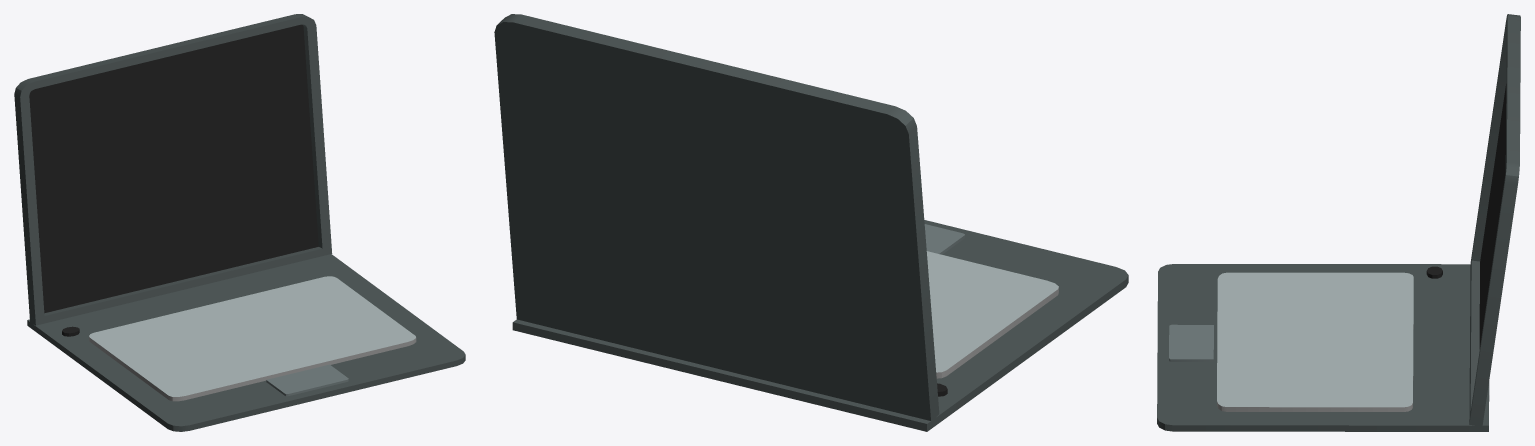
Rendered from Laptop.fbx.
The picture shows the model from 3 angles, left to right: view 1: azimuth 30°, elevation 25°; view 2: azimuth 150°, elevation 25°; view 3: azimuth 270°, elevation 25°; orthographic projection. The views are drawn at different scales.
Visible parts, largest first — view 1: Laptop; view 2: Laptop; view 3: Laptop.
Part boxes in pixels (x1=…): Laptop: x1=14, y1=14, x2=465, y2=431; Laptop: x1=494, y1=14, x2=1128, y2=431; Laptop: x1=1157, y1=14, x2=1520, y2=431.
Bounding box in the file's own units: 0.4139 × 0.3126 × 0.3932.
